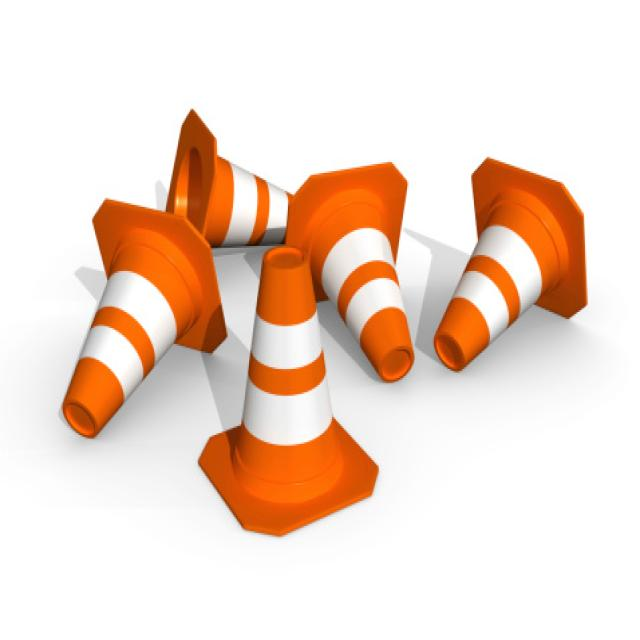cone: (186, 239, 383, 535), (51, 196, 222, 440), (427, 150, 587, 369), (315, 164, 415, 380), (165, 100, 286, 237)
